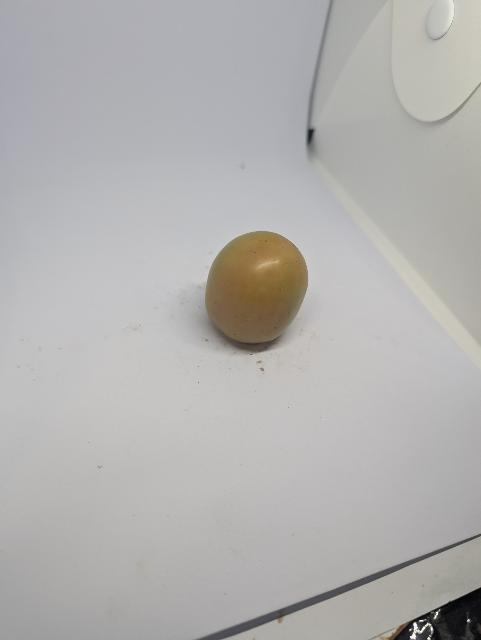breaker: (198, 220, 313, 356)
